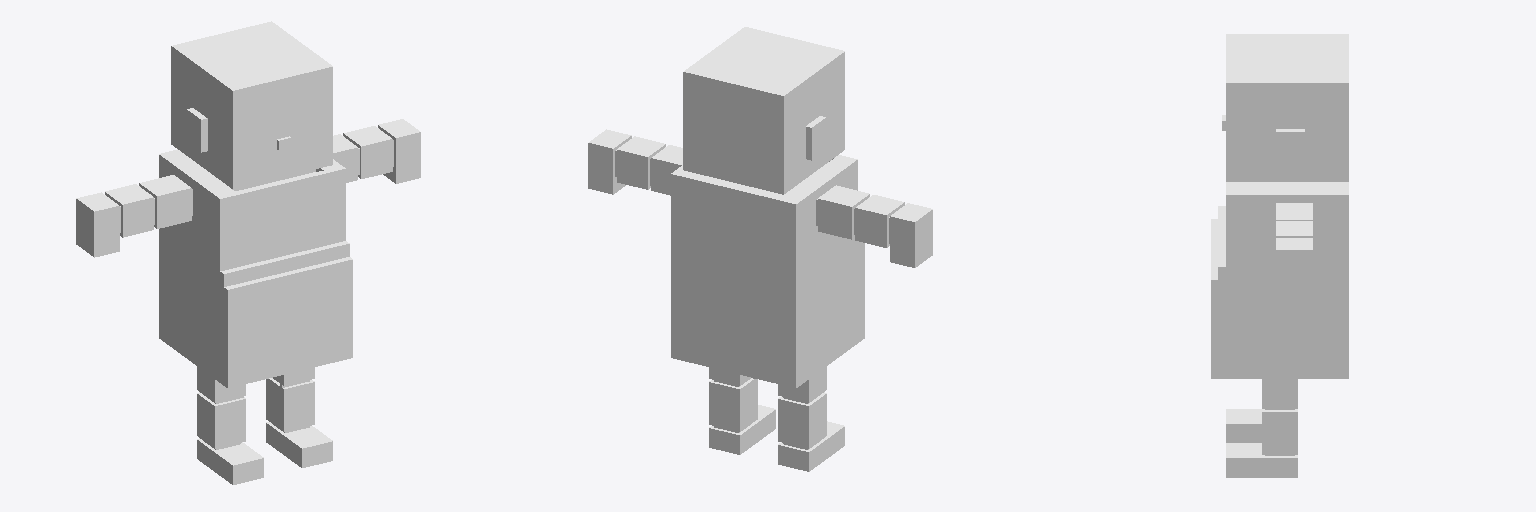
The model's file is Human_itoi.obj.
The picture shows the model from 3 angles: view 1: azimuth 30°, elevation 25°; view 2: azimuth 150°, elevation 25°; view 3: azimuth 270°, elevation 25°; orthographic projection.
Visible parts, largest first — view 1: Human_itoi; view 2: Human_itoi; view 3: Human_itoi.
Boxes of the visible parts, x1=… form: Human_itoi: x1=76, y1=21, x2=420, y2=484; Human_itoi: x1=588, y1=27, x2=932, y2=471; Human_itoi: x1=1211, y1=34, x2=1348, y2=477.
Bounding box in the file's own units: 104 × 120 × 38.